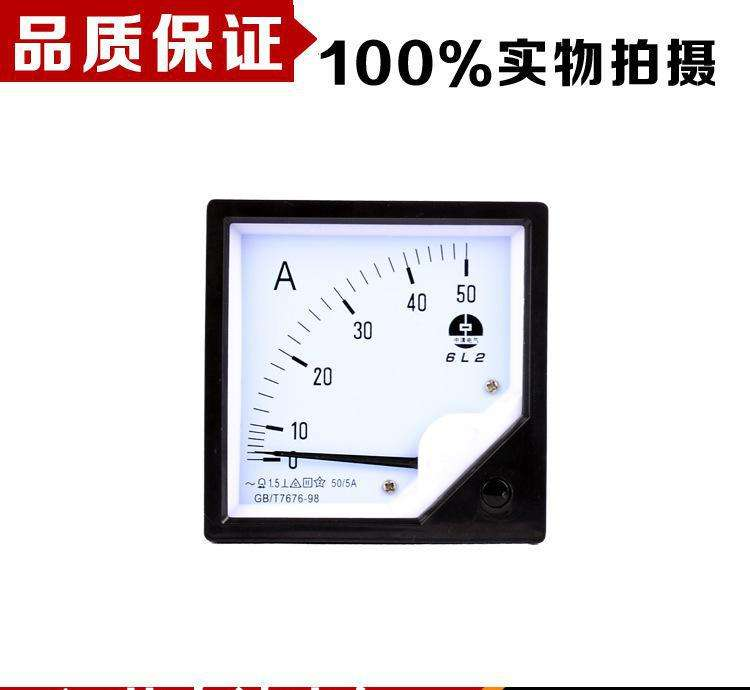pointer: (227, 223, 524, 520)
